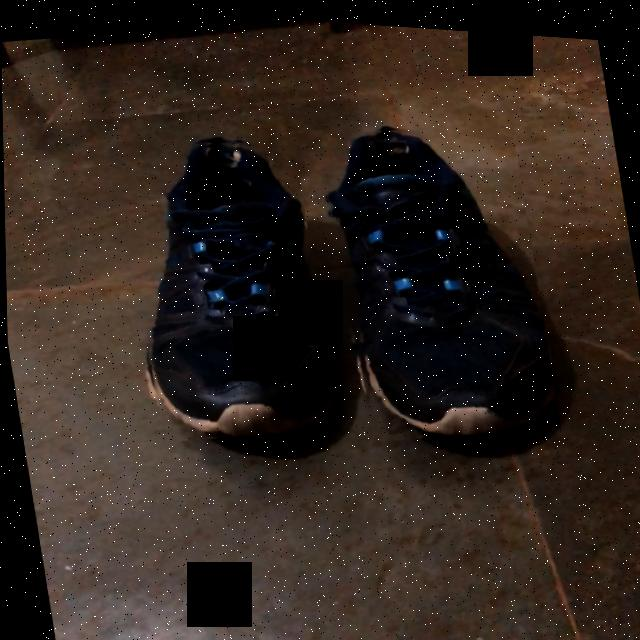shoe: (327, 125, 554, 431), (148, 139, 334, 435)
